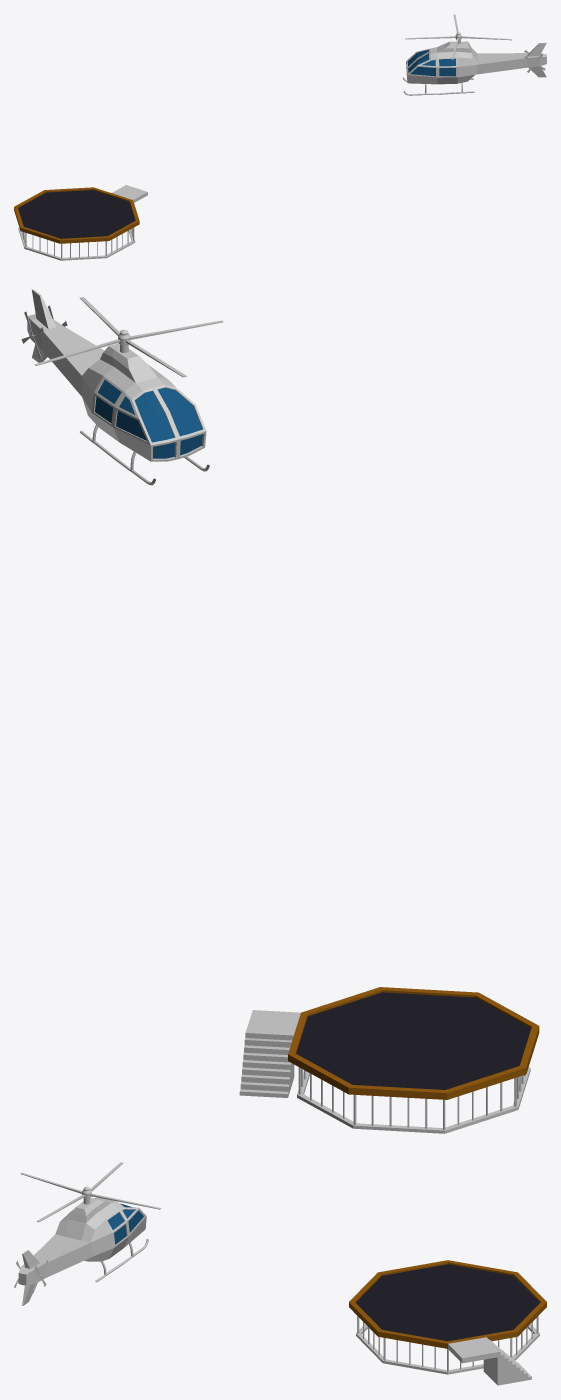
The model's file is copter_000141.obj.
The picture shows the model from 3 angles, top to bottom: view 1: azimuth 30°, elevation 25°; view 2: azimuth 150°, elevation 25°; view 3: azimuth 270°, elevation 25°; orthographic projection. The views are drawn at different scales.
Parts seen in each view (by area): view 1: Cylinder.001_Cylinder.012, Helicopter.007_Cylinder.008, Helicopter.001_Cylinder.001; view 2: Cylinder.001_Cylinder.012, Helicopter.007_Cylinder.008, Helicopter.001_Cylinder.001; view 3: Cylinder.001_Cylinder.012, Helicopter.007_Cylinder.008, Helicopter.001_Cylinder.001.
Part boxes in pixels (x1=…): Cylinder.001_Cylinder.012: x1=14, y1=185, x2=147, y2=260; Helicopter.007_Cylinder.008: x1=402, y1=41, x2=546, y2=95; Helicopter.001_Cylinder.001: x1=405, y1=14, x2=511, y2=59; Cylinder.001_Cylinder.012: x1=239, y1=987, x2=539, y2=1133; Helicopter.007_Cylinder.008: x1=27, y1=289, x2=209, y2=485; Helicopter.001_Cylinder.001: x1=34, y1=297, x2=223, y2=377; Cylinder.001_Cylinder.012: x1=349, y1=1260, x2=546, y2=1385; Helicopter.007_Cylinder.008: x1=18, y1=1197, x2=148, y2=1305; Helicopter.001_Cylinder.001: x1=20, y1=1162, x2=161, y2=1222.
Bounding box in the file's own units: 23.36 × 12.98 × 18.22.
